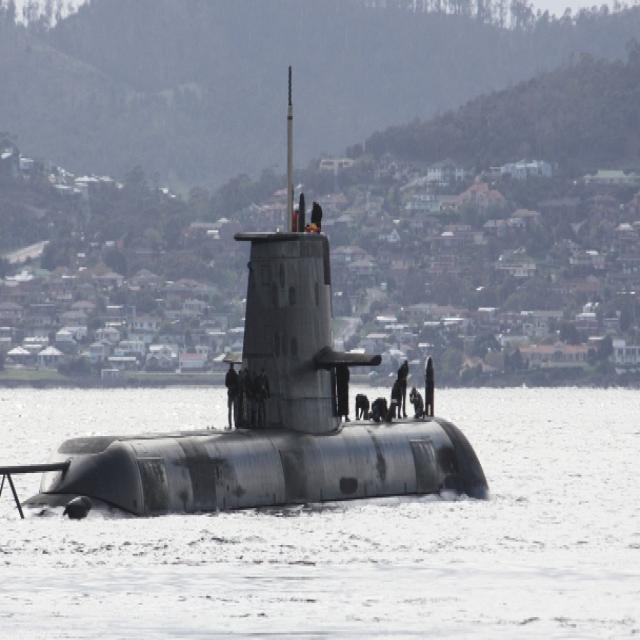submarine: (1, 51, 497, 501)
